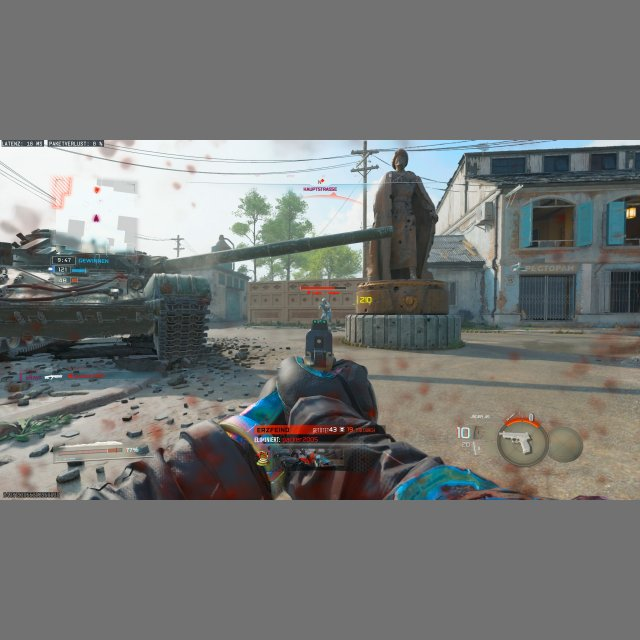head: (321, 298, 327, 303)
player: (318, 298, 331, 323)
